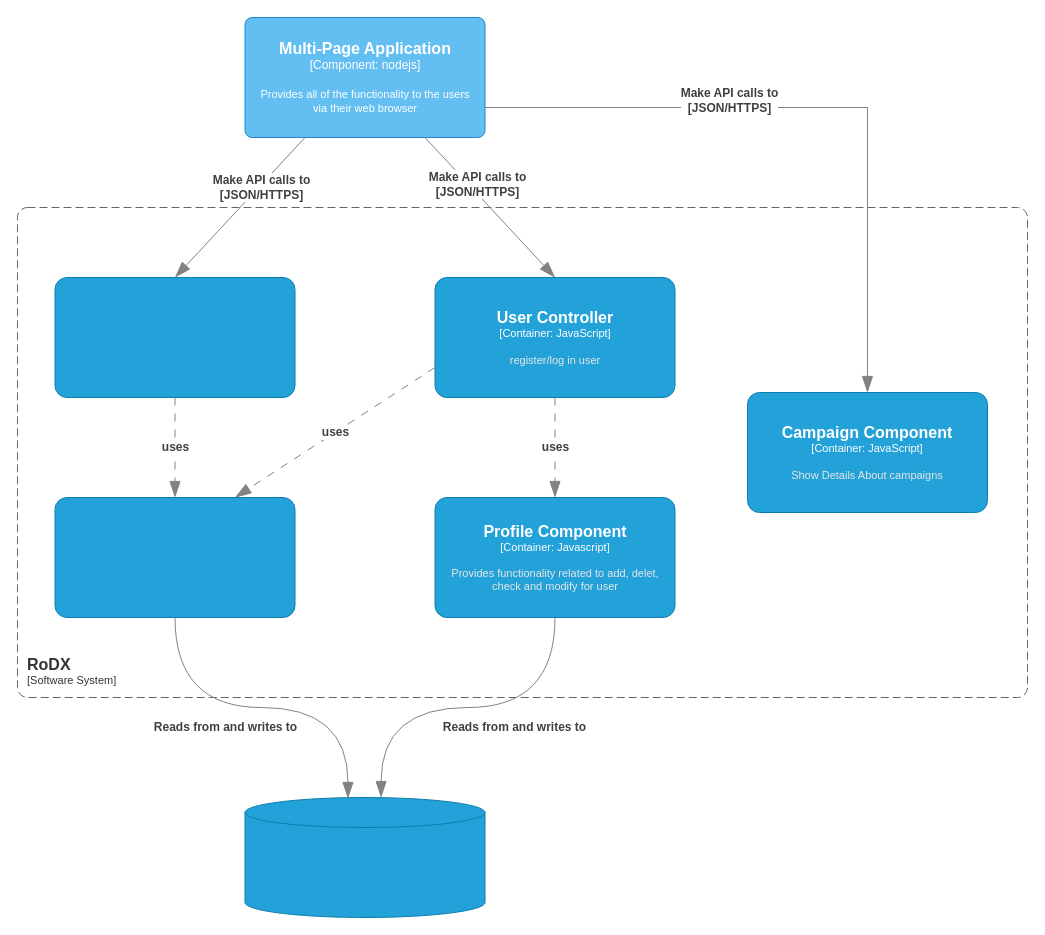
Image size: 1045x935. Some labels were removed from this diagram. Here are the shapes that lost their labels. From the top down, the centre of each, then its label:
[174,337]: Filter Controller [Container: JavaScript] Get .xlsx file content
[174,557]: Security Component [Container: JavaScript] Verify JWT for API
[364,857]: Database [Container: MongoDB] Store data for users
